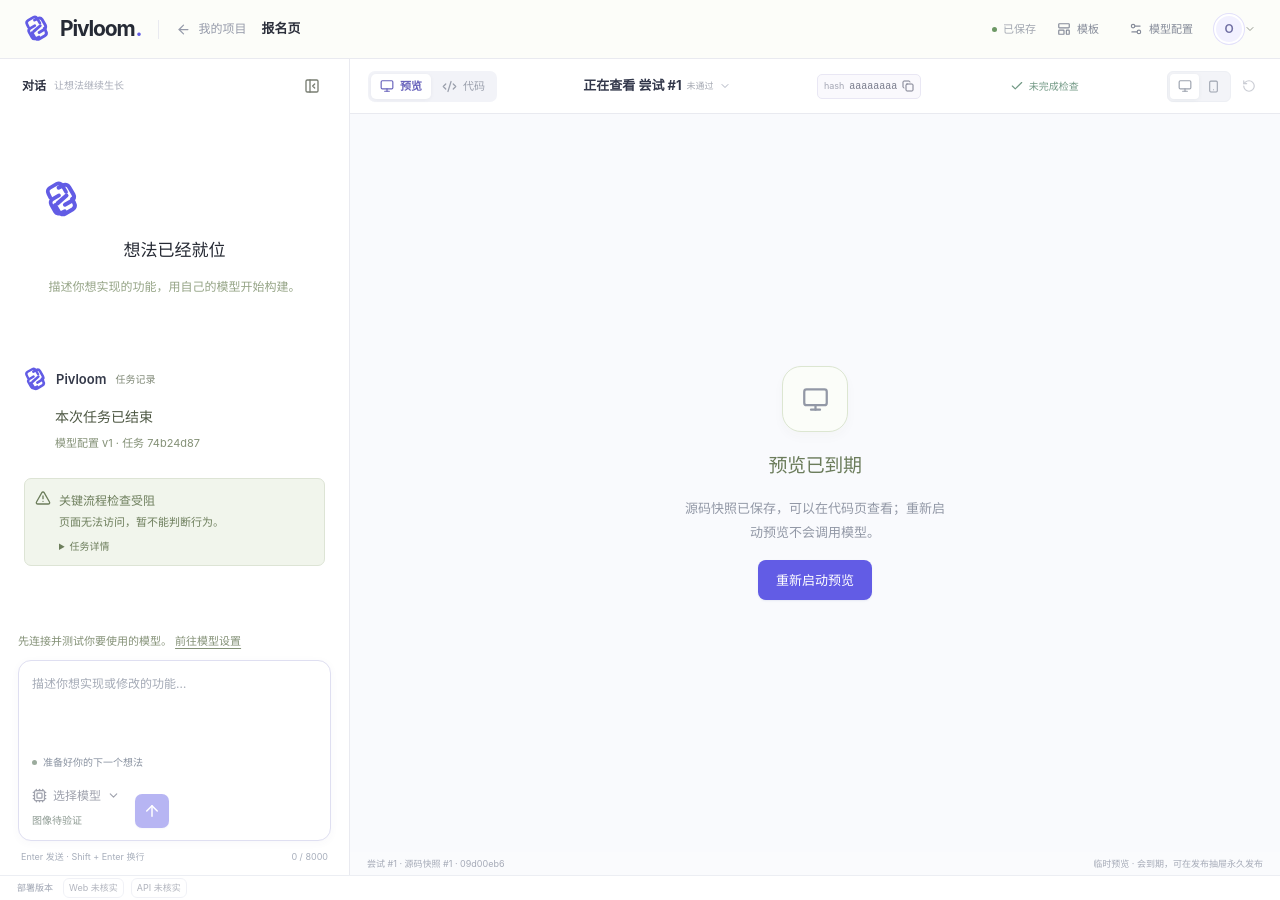
Test: keeps a blocked check distinct from an unchecked candidate in both result and conversation
Click the button with class "a-toolbar-check" at [1044, 86], box top-left (1004, 74), bottom-right (1085, 98)
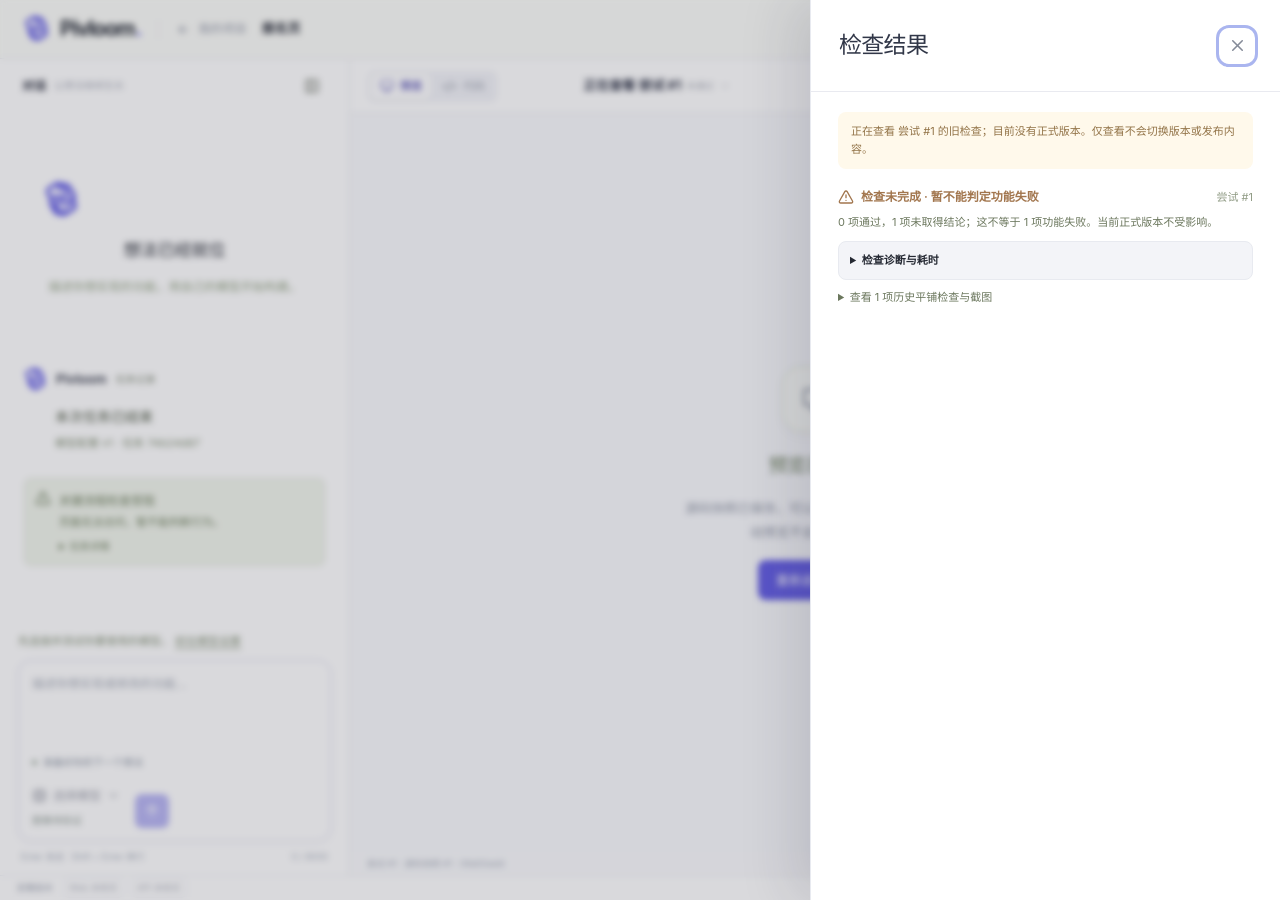
Expected: the text "关键流程检查受阻" is shown, top-left (59, 493), bottom-right (155, 508)
Expected: the element named "版本检查结果" shows "检查未完成", top-left (861, 189), bottom-right (1039, 204)
